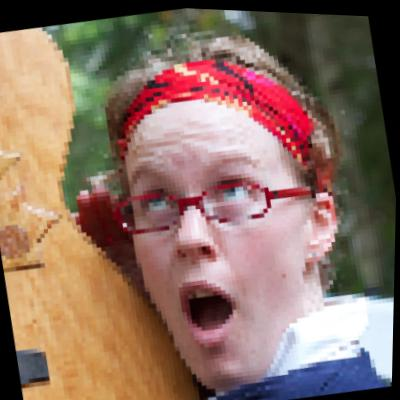surprise: (104, 74, 344, 397)
